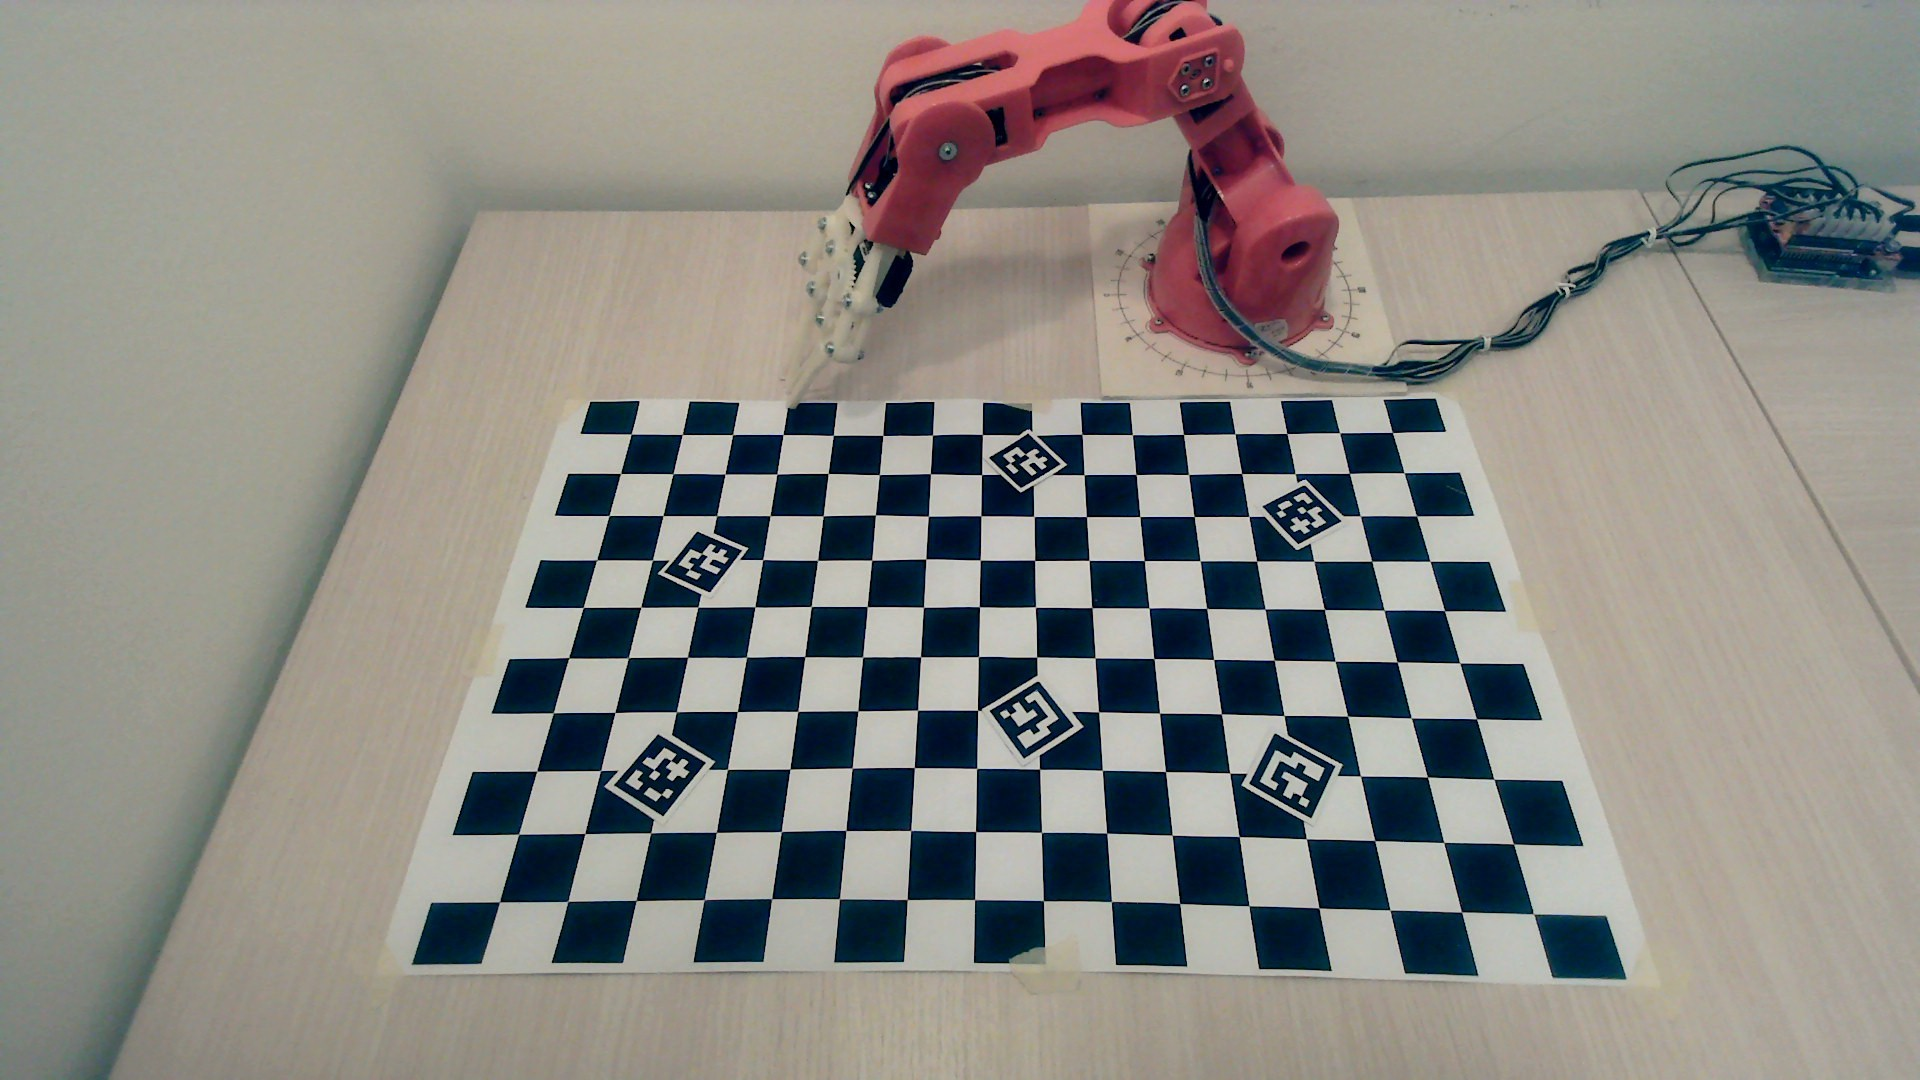marker: (1247, 731, 1341, 822), (986, 676, 1079, 767), (613, 735, 708, 822), (657, 531, 753, 599), (1263, 481, 1342, 551), (989, 430, 1063, 495)
